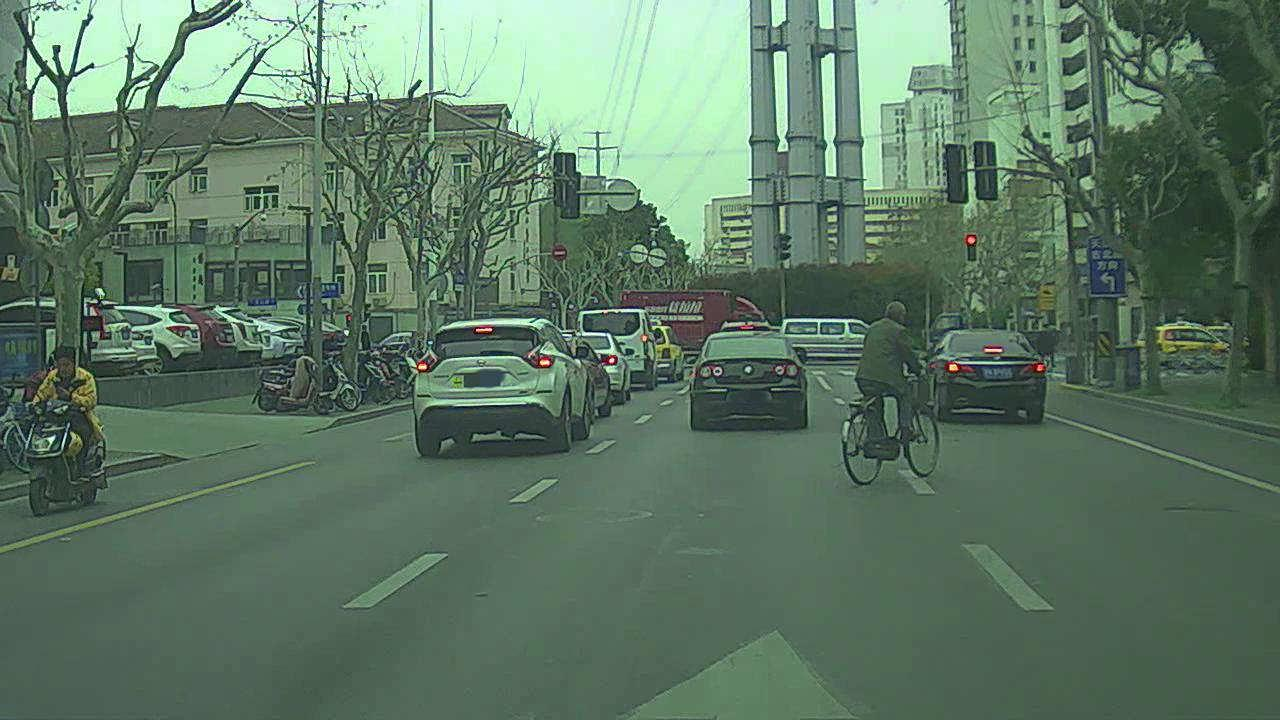traffic_light: (967, 232, 981, 258)
